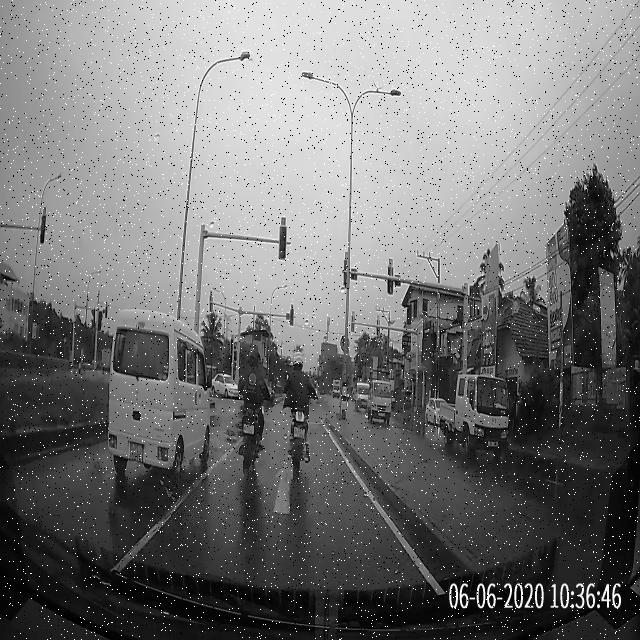forward: (172, 462, 392, 524)
